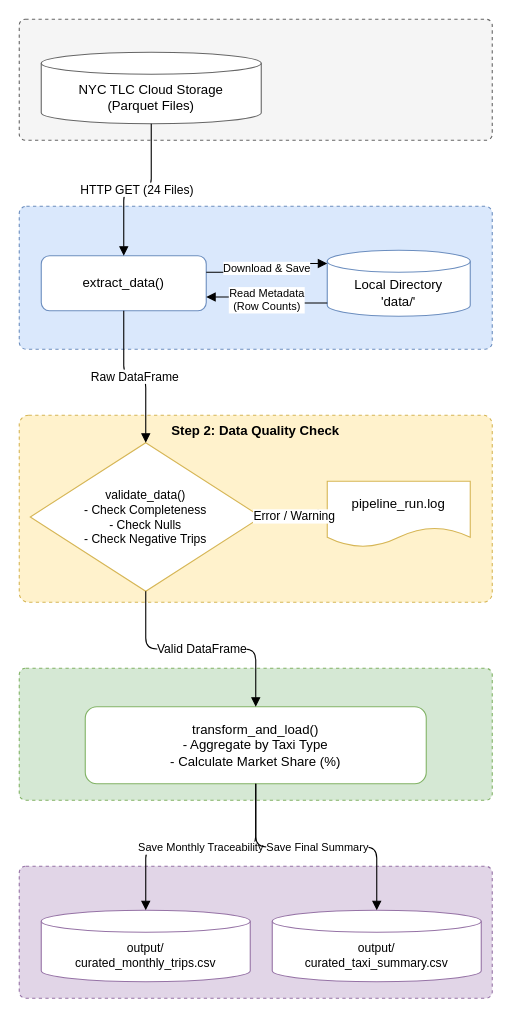
Some shapes in this 512 by 1018 pixel diagram are drawn without their labels. Here are the shapes that lost their labels. From the top down, the box of each, then its label:
(18, 18, 492, 140): External Source
(18, 205, 492, 349): Step 1: Data Ingestion
(18, 667, 492, 800): Step 3: Transformation
(18, 865, 492, 998): Step 4: Curated Outputs
